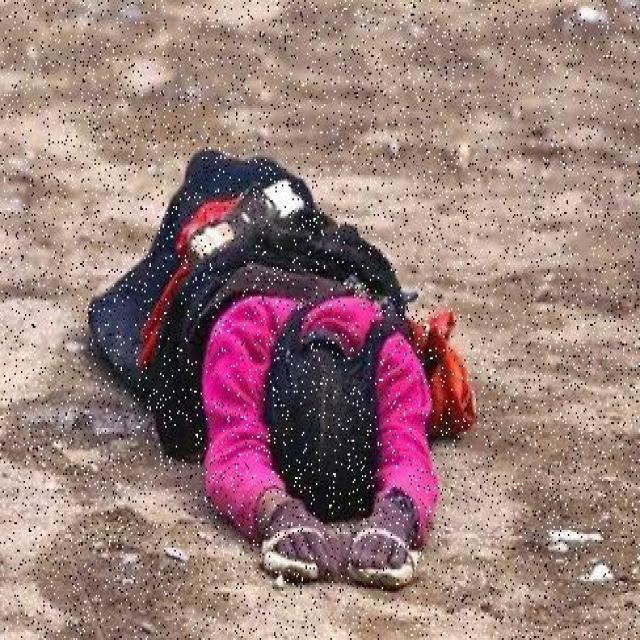fall: (126, 143, 462, 591)
